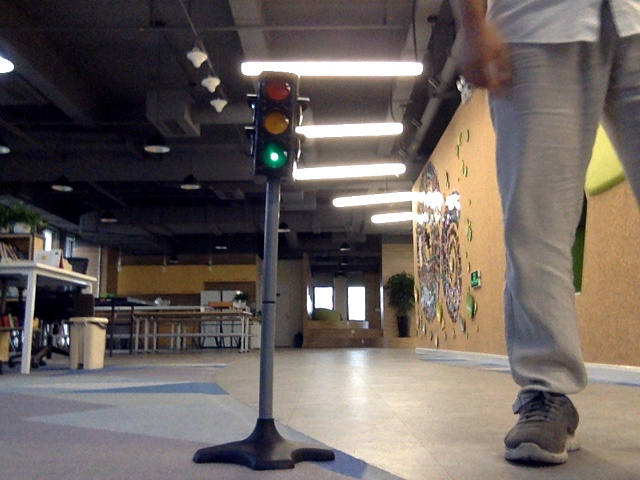green: (257, 75, 290, 172)
